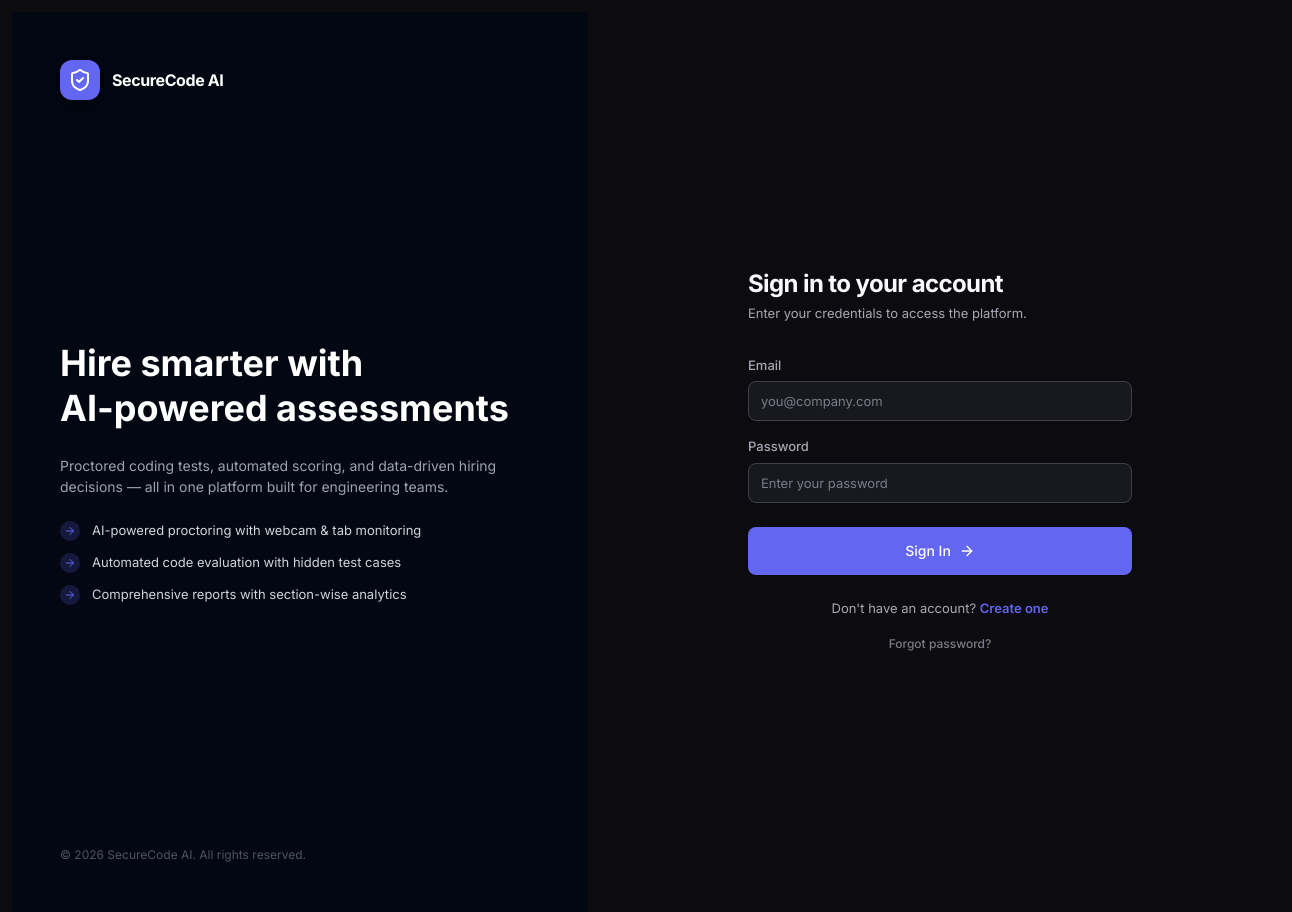
LoginPage › submits login form and navigates on success
Type "test@test.com" into the field with placeholder "you@company.com".
click(940, 401); type("test@test.com")  # box [748,381,1132,421]
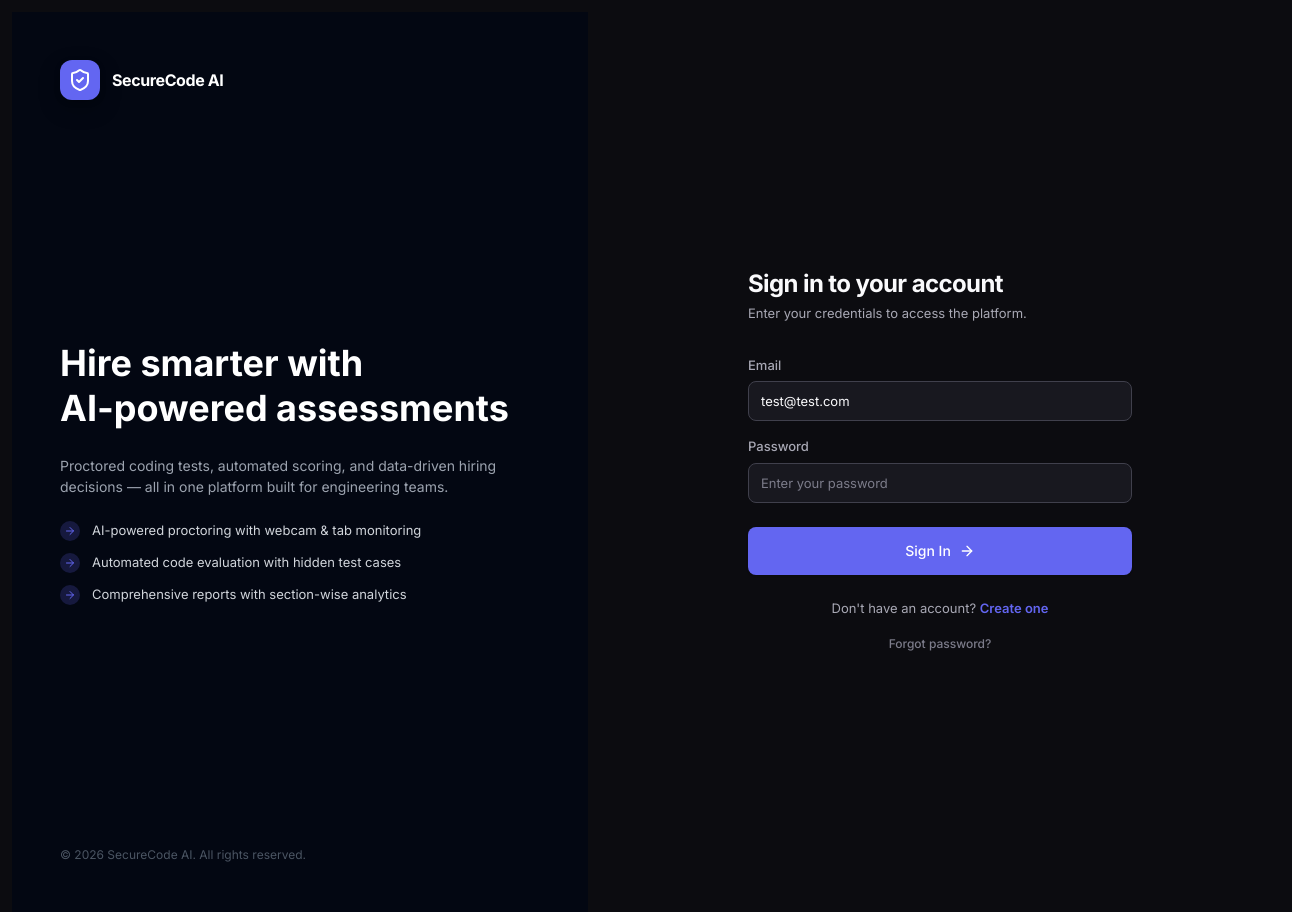
Type "Password123!" into the password field with placeholder "Enter your password".
click(940, 483); type("Password123!")  # box [748,463,1132,503]
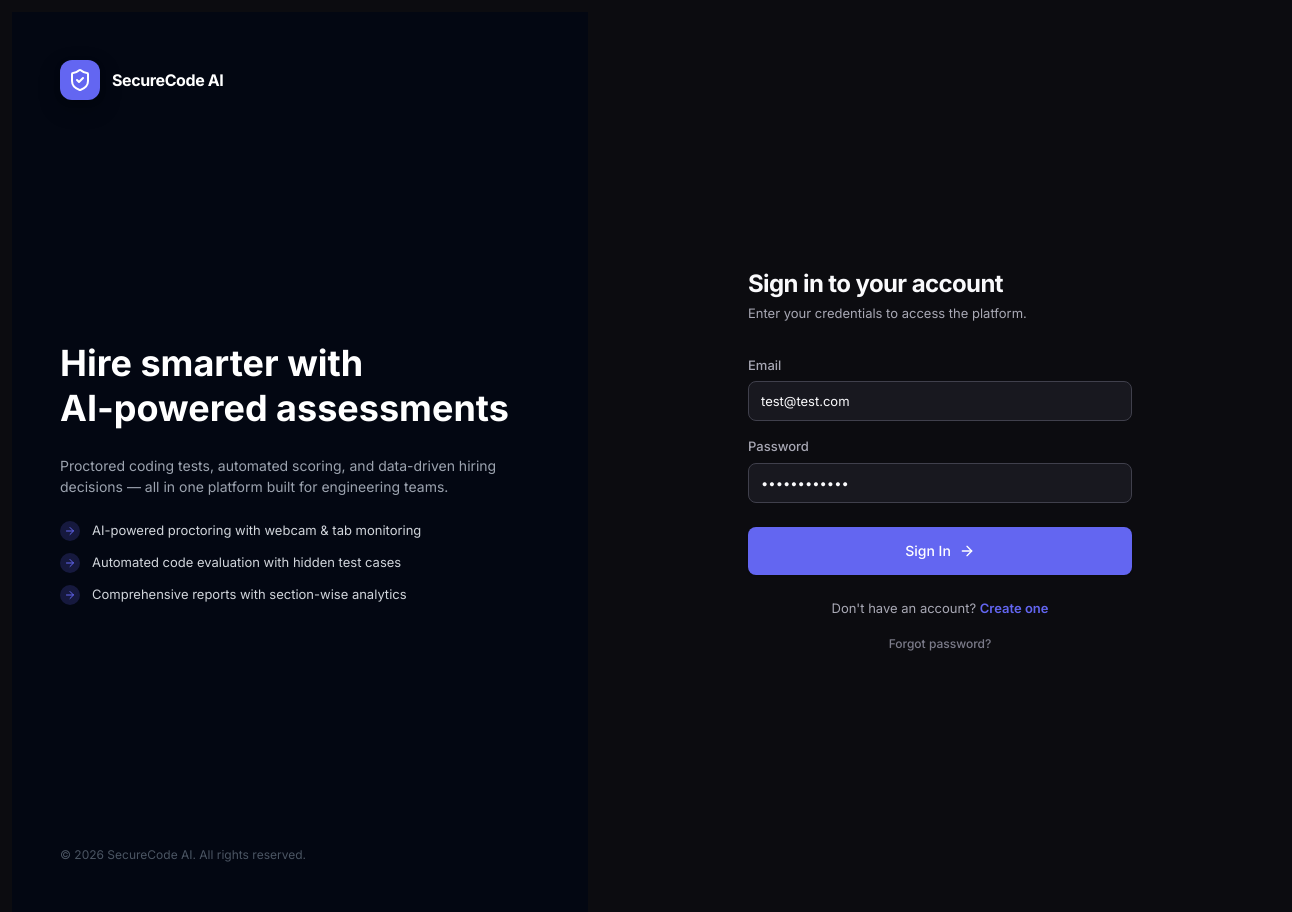
Click the button "Sign In".
click(940, 551)  # box [748,527,1132,575]
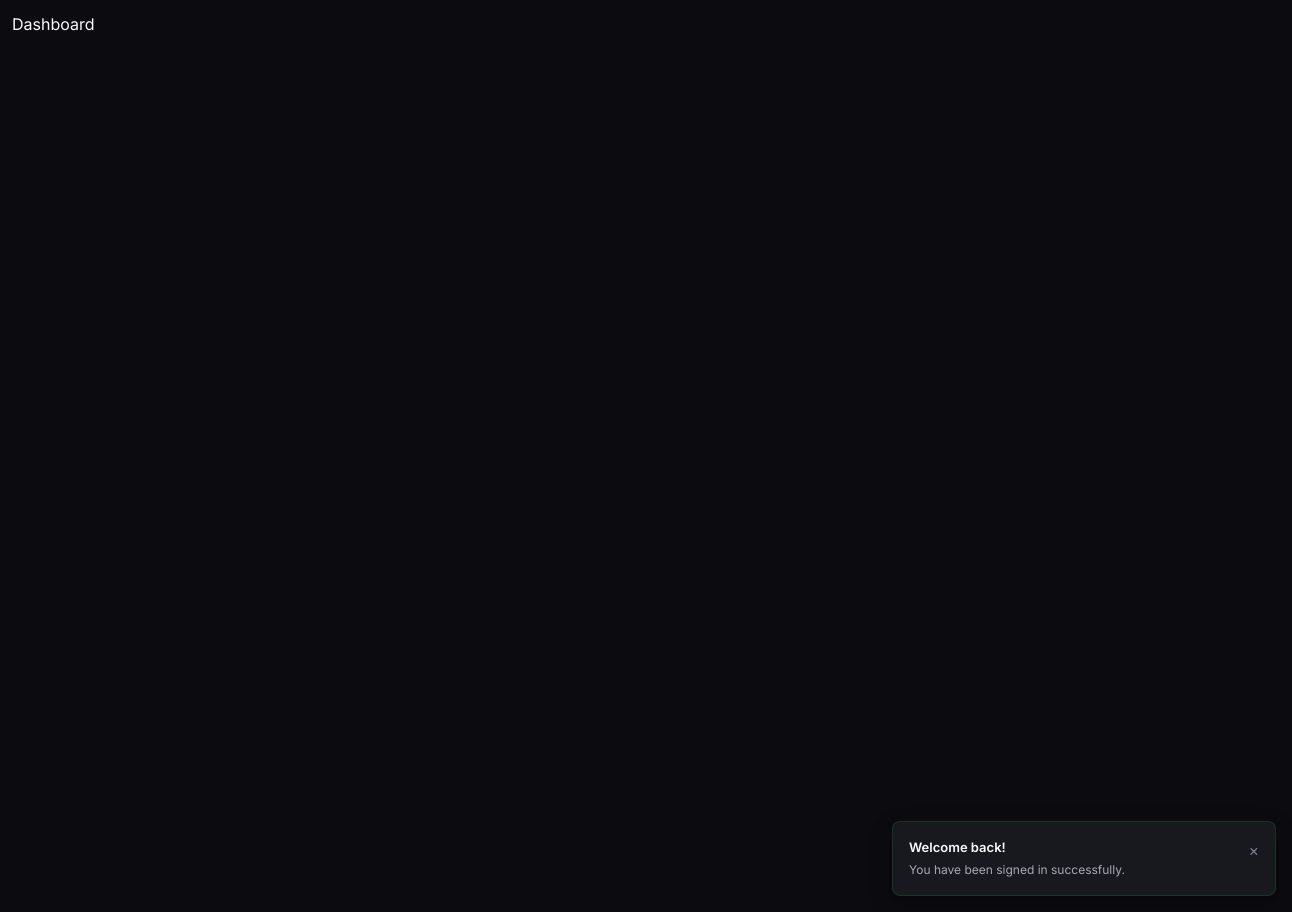
Now the text "Dashboard" is shown, box [12,14,94,34]
